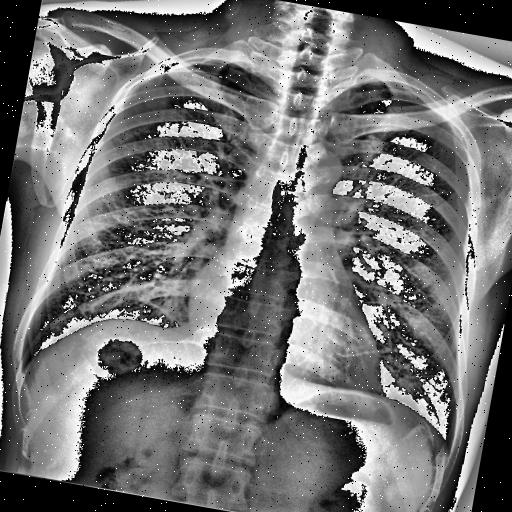11- Pleural thickening: (393, 79, 462, 124), (149, 47, 215, 84)
8- Nodule-Mass: (90, 332, 146, 378), (90, 334, 146, 378)
9- Other lesion: (90, 332, 146, 378), (90, 334, 146, 378)
